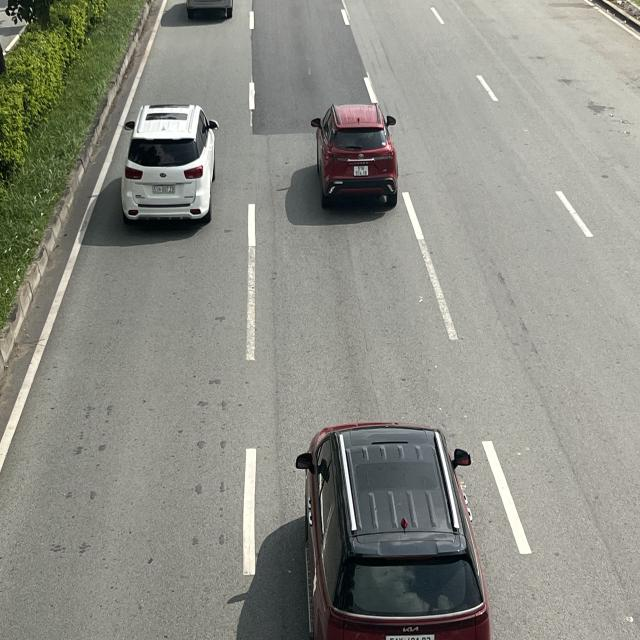car: (293, 422, 491, 640), (122, 103, 220, 224), (313, 103, 398, 206)
